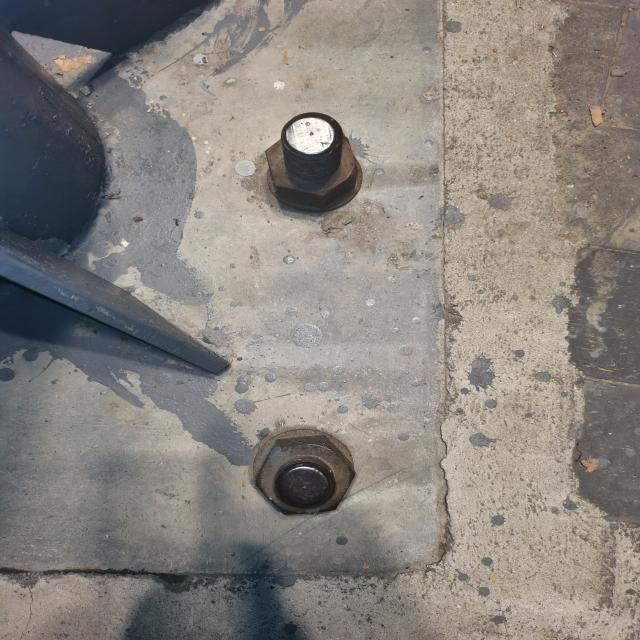bolt nut: (252, 434, 358, 517), (260, 127, 362, 210)
